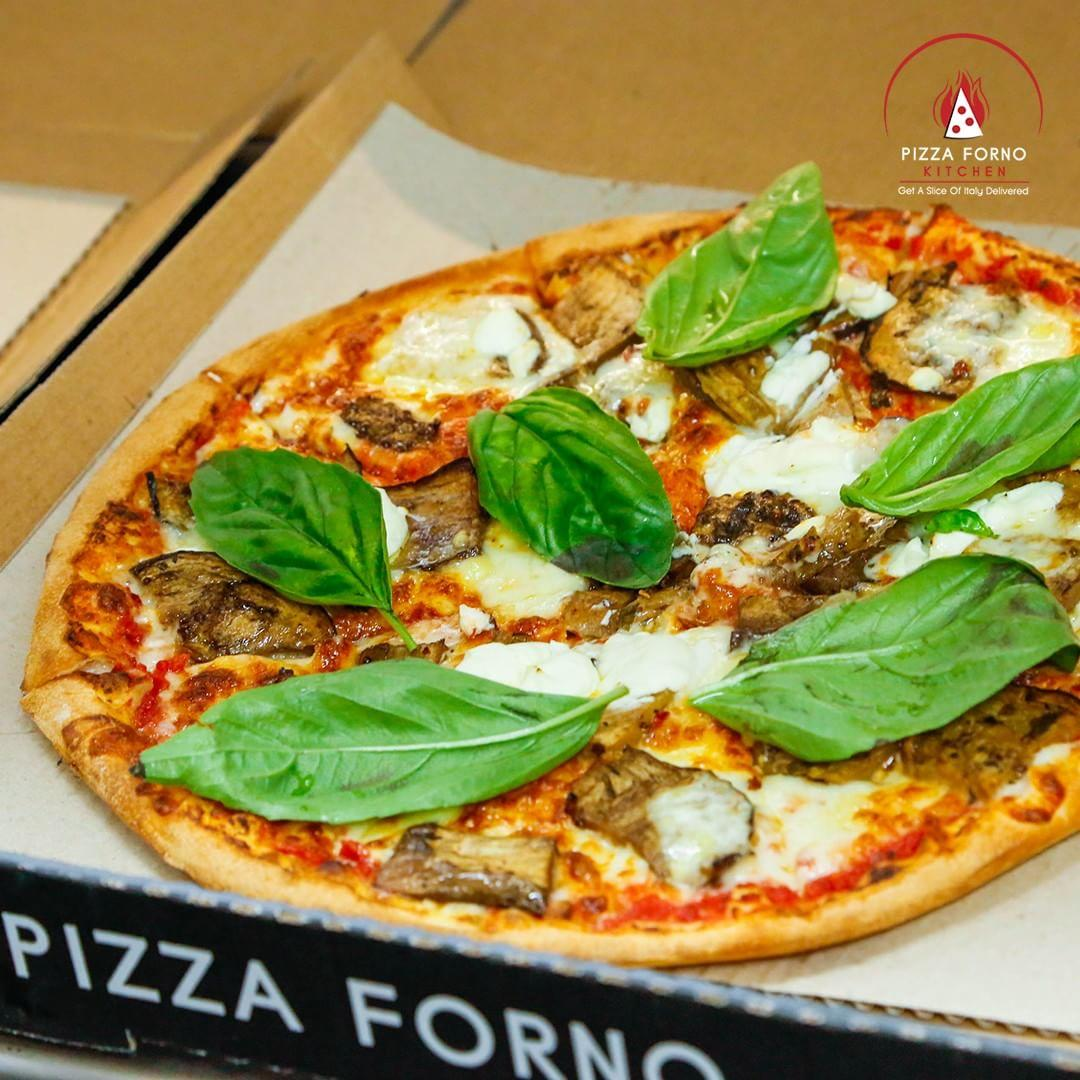Basil: (145, 659, 628, 814), (727, 553, 1080, 747), (648, 161, 839, 367), (849, 359, 1080, 518), (476, 396, 669, 580), (198, 451, 391, 608)
Cheese: (392, 309, 546, 395), (483, 644, 726, 692), (734, 437, 849, 504)
Pizza: (33, 208, 1080, 973)
